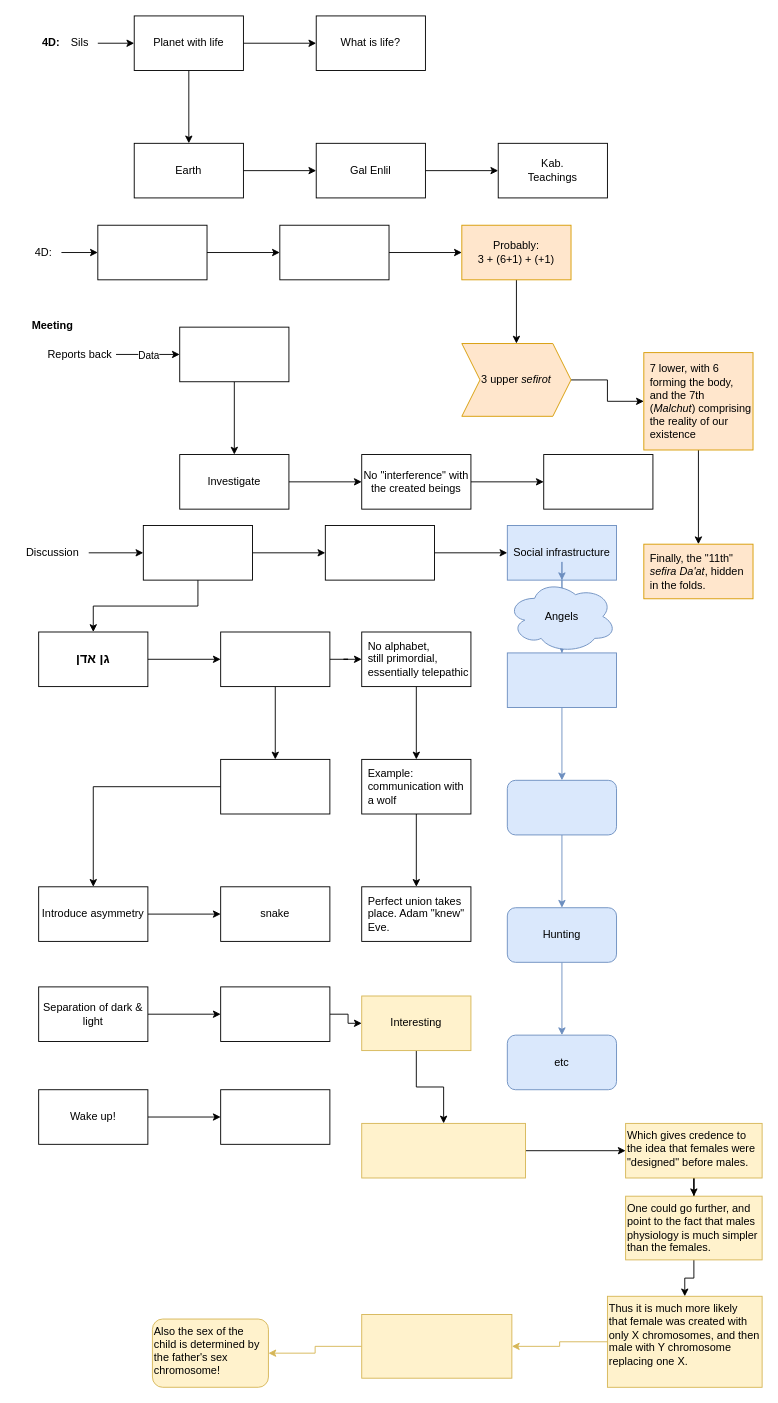
Some shapes in this 778 by 1403 pixel diagram are drawn without their labels. Each missing label, with the centre of its shape:
Agriculture: point (561, 807)
Alphabet/speech: point (561, 680)
Criterion: History (Great Myths, etc): point (598, 481)
Even the DNA trace is dileanated by the mother's DNA, which has no Y chromosome.: point (436, 1346)
Needs at least 8d.: point (334, 252)
No child born: point (275, 786)
Not capable of "creating" 3d planet: point (152, 252)
Not simple: point (379, 552)
Now think, speech & action: point (275, 1116)
Removal of rib (chromosome?): point (275, 1013)
Remove X chromosome, Replace with Y - to make male!: point (443, 1150)
Seed it: point (197, 552)
Synod: point (234, 354)
Too balanced, Too perfect Too idyllic: point (275, 659)
